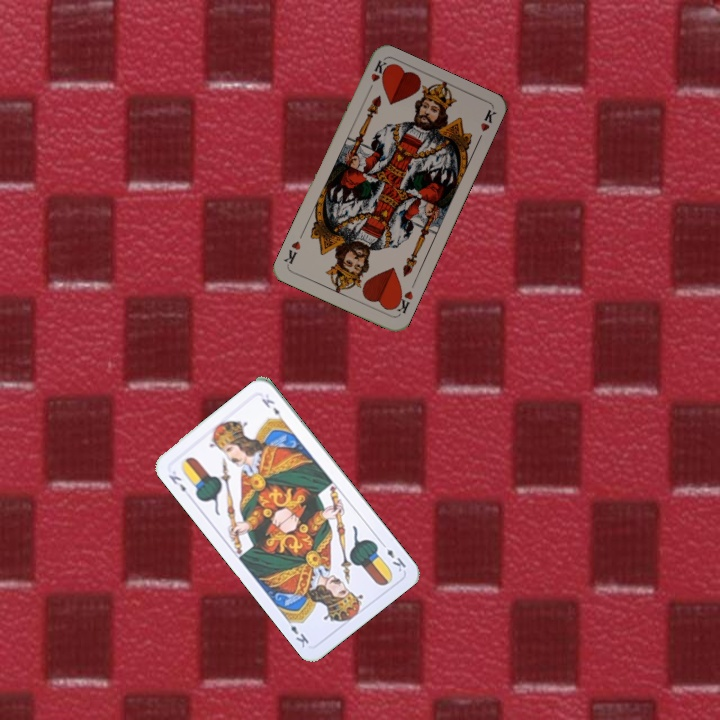EK: (377, 538, 408, 575), (165, 471, 193, 501)
HK: (363, 56, 389, 96), (390, 287, 416, 317)
